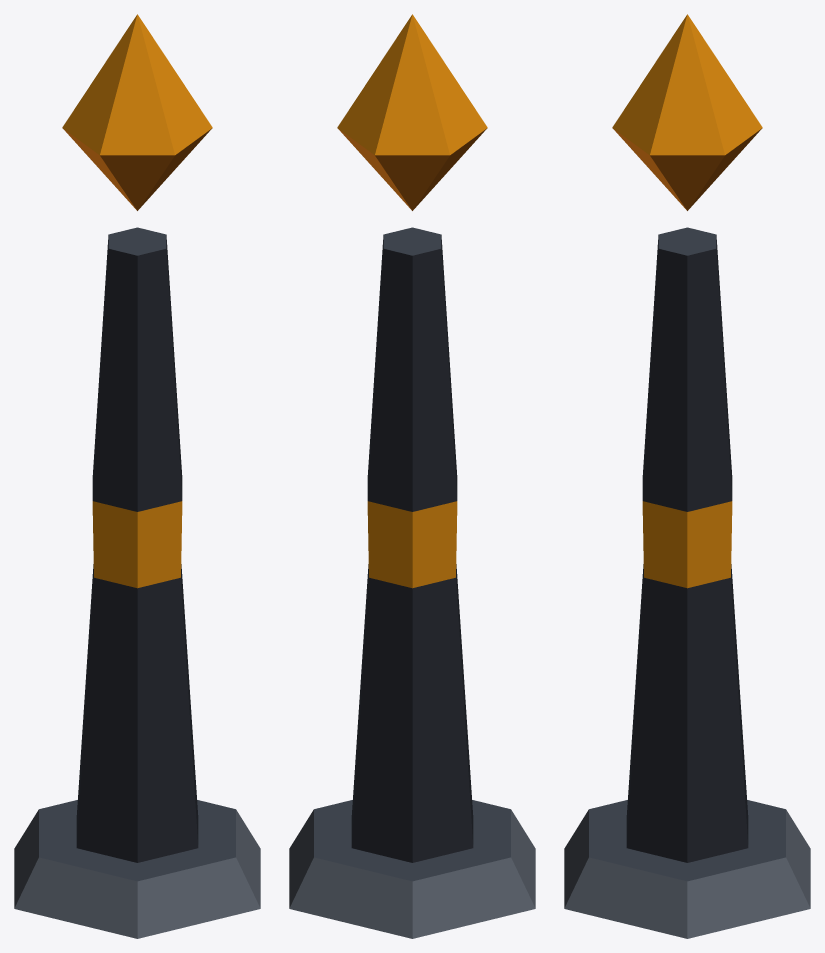
Rendered from openworld-lair.glb.
The picture shows the model from 3 angles, left to right: view 1: azimuth 30°, elevation 25°; view 2: azimuth 150°, elevation 25°; view 3: azimuth 270°, elevation 25°; orthographic projection.
Visible parts, largest first — view 1: ow_lair; view 2: ow_lair; view 3: ow_lair.
Boxes of the visible parts, x1,y1,x2,y2 form: ow_lair: [14, 14, 260, 938]; ow_lair: [289, 14, 535, 938]; ow_lair: [564, 14, 810, 938].
Bounding box in the file's own units: 1.7 × 5.7 × 1.47.
